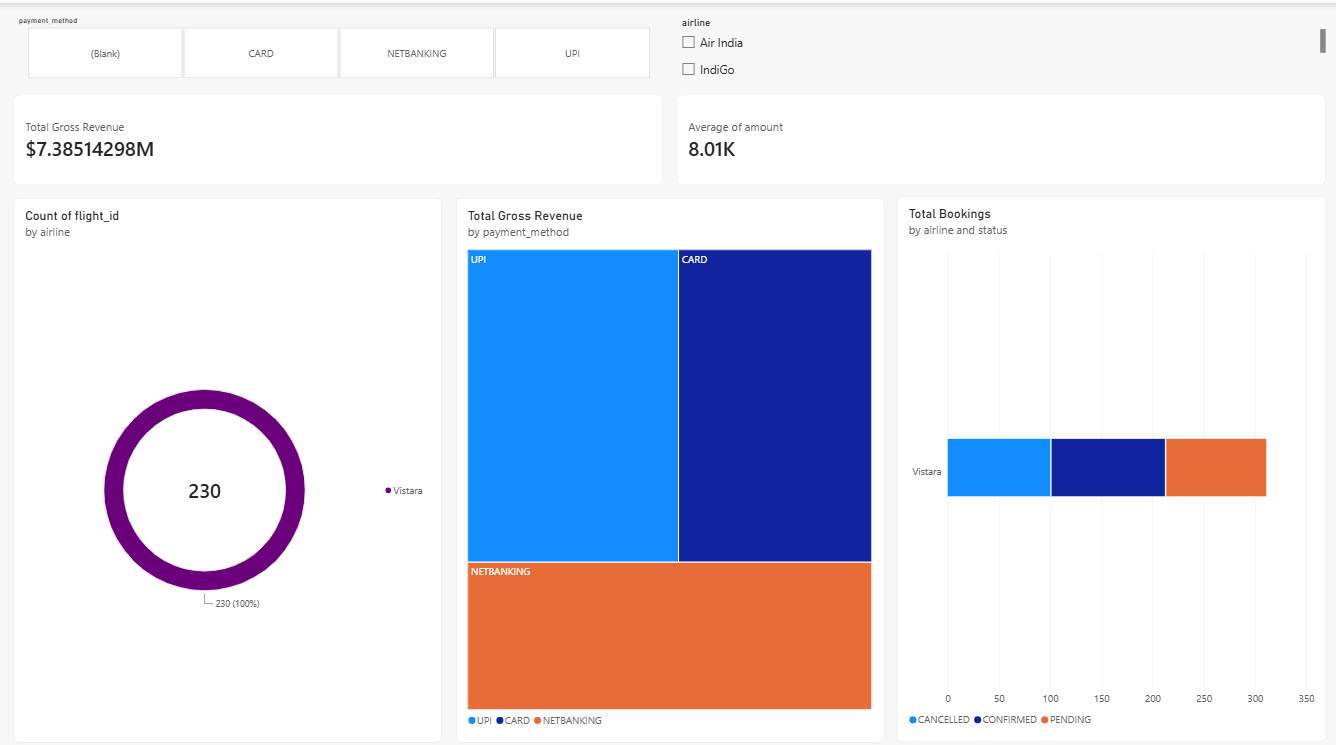

The page's visual inventory and layout, read from the dashboard file:
{"tool":"powerbi","page":{"name":"Airline Trends","canvas":[1920,1080],"ordinal":2},"visuals":[{"type":"slicer","fields":{"Values":["dim_payments.payment_method"]},"box":[20,20,930,90],"z":0},{"type":"slicer","fields":{"Values":["dim_flights.airline"]},"box":[970,20,930,90],"z":1000},{"type":"cardVisual","fields":{"Data":["_Measures.Total Gross Revenue"]},"box":[20,130,930,130],"z":2000},{"type":"cardVisual","fields":{"Data":["Avg(dim_payments.amount)"]},"box":[970,130,930,130],"z":3000},{"type":"donutChart","fields":{"Category":["dim_flights.airline"],"Y":["CountNonNull(dim_flights.flight_id)"]},"box":[20,280,613,780],"z":4000},{"type":"barChart","fields":{"Category":["dim_flights.airline"],"Series":["fact_bookings.status"],"Y":["_Measures.Total Bookings"]},"box":[1285.6,277.1,615.5,781.3],"z":5000},{"type":"treemap","fields":{"Group":["dim_payments.payment_method"],"Values":["_Measures.Total Gross Revenue"]},"box":[653,280,613,780],"z":6000}]}

Visuals, with their boxes in screenshot pixels (x1, y1, x2, y2), scaled from the page's 1920x1080 canvas onto the 1336x745 screenshot:
slicer - dim_payments.payment_method: (14,14,661,76)
slicer - dim_flights.airline: (675,14,1322,76)
cardVisual - _Measures.Total Gross Revenue: (14,90,661,179)
cardVisual - Avg(dim_payments.amount): (675,90,1322,179)
donutChart - dim_flights.airline x CountNonNull(dim_flights.flight_id): (14,193,440,731)
barChart - dim_flights.airline x fact_bookings.status: (895,191,1323,730)
treemap - dim_payments.payment_method x _Measures.Total Gross Revenue: (454,193,881,731)
